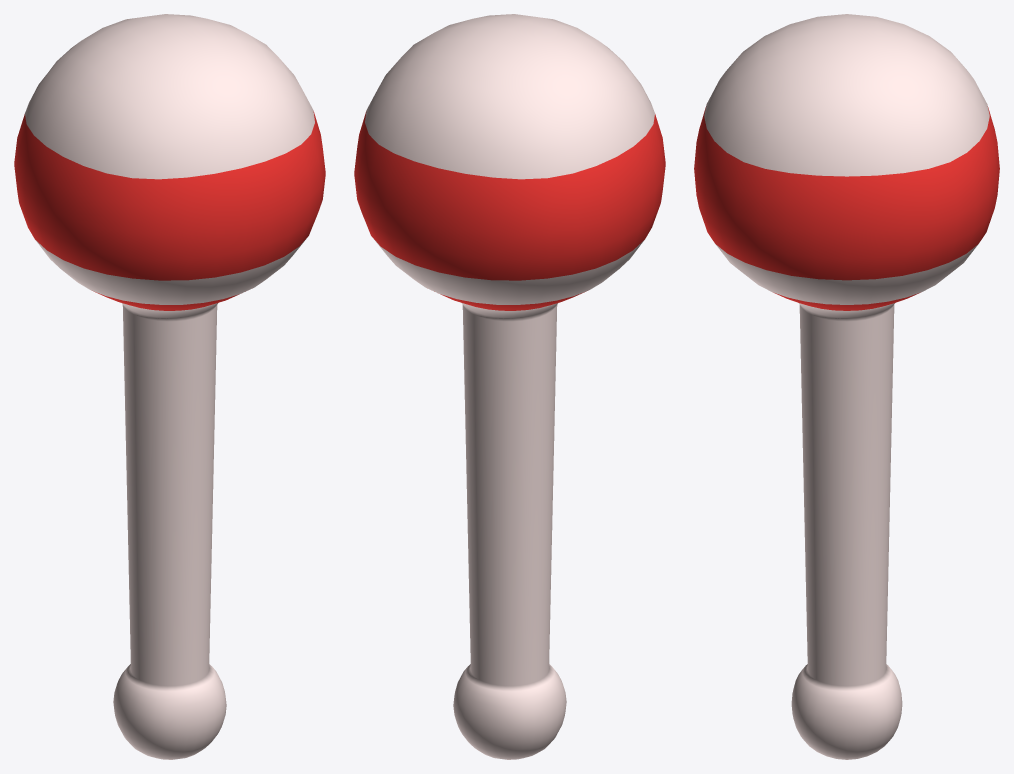
The model's file is Public_14_Skittle_1.glb.
The picture shows the model from 3 angles, left to right: view 1: azimuth 30°, elevation 25°; view 2: azimuth 150°, elevation 25°; view 3: azimuth 270°, elevation 25°; orthographic projection.
Visible parts, largest first — view 1: Public_14_Skittle_1; view 2: Public_14_Skittle_1; view 3: Public_14_Skittle_1.
Part boxes in pixels (x1,y1,x2,y2): Public_14_Skittle_1: (14, 14, 325, 759); Public_14_Skittle_1: (354, 14, 665, 759); Public_14_Skittle_1: (694, 14, 999, 759).
Size of the model in its own units: 0.2979 by 0.7779 by 0.2979.
1 material, 1 textured.
